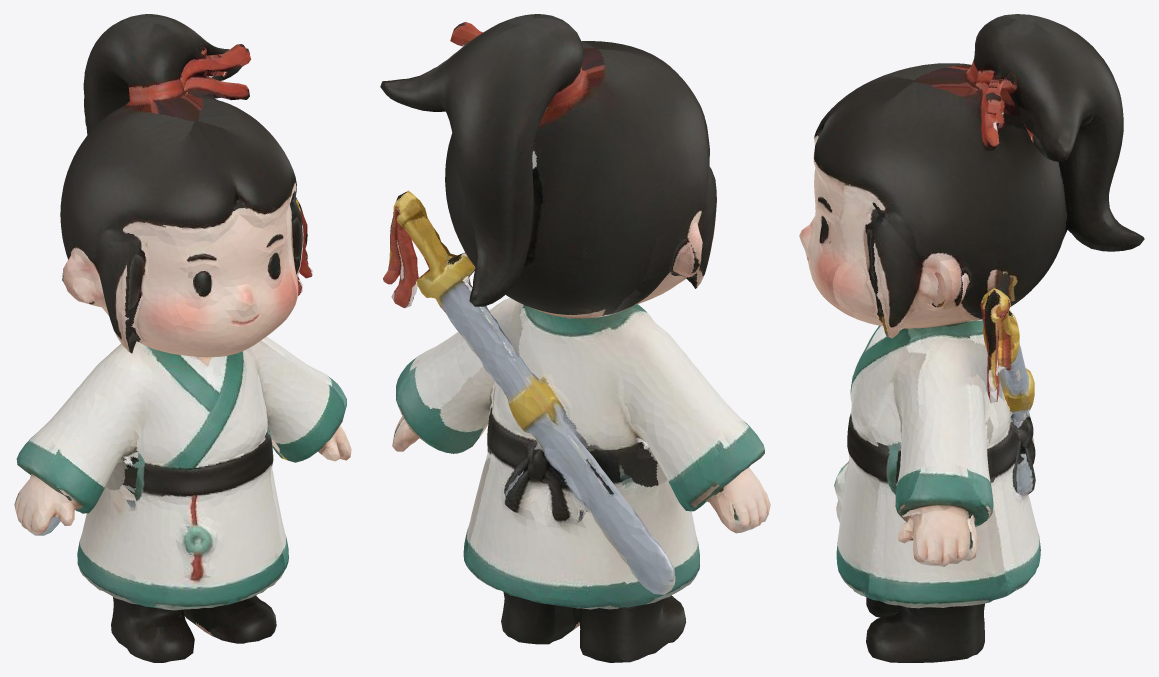
File: tieu-mac.glb
The picture shows the model from 3 angles, left to right: view 1: azimuth 30°, elevation 25°; view 2: azimuth 150°, elevation 25°; view 3: azimuth 270°, elevation 25°; orthographic projection. The views are drawn at different scales.
Parts seen in each view (by area): view 1: world; view 2: world; view 3: world.
Part boxes in pixels (x1,y1,x2,y2): world: (14, 14, 351, 662); world: (380, 14, 770, 662); world: (799, 14, 1144, 662).
Size of the model in its own units: 1.16 by 2 by 1.02.
Materials: 1 (1 with a texture image).
